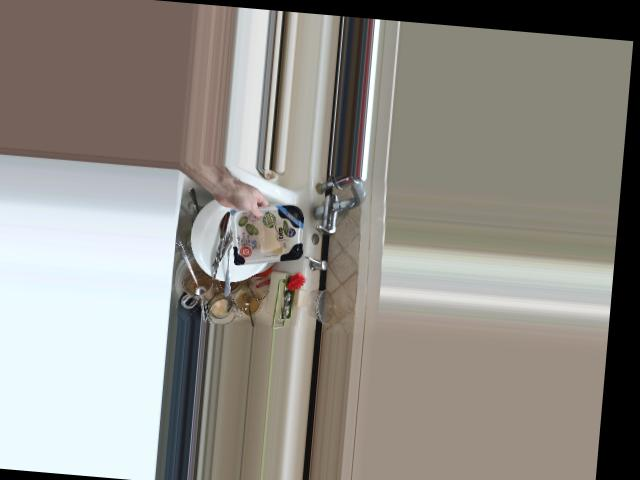cheese: (215, 180, 313, 268)
